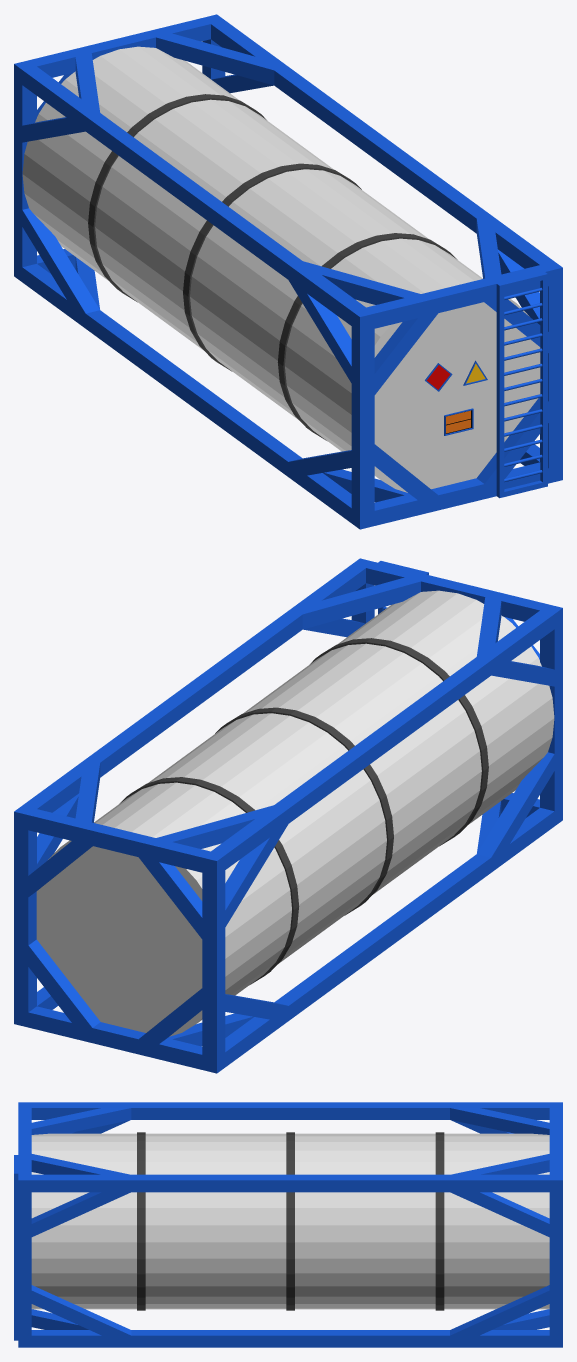
Rendered from citerne_conteneur.fbx.
3 renders of one model, top to bottom at view 1: azimuth 30°, elevation 25°; view 2: azimuth 150°, elevation 25°; view 3: azimuth 270°, elevation 25°, orthographic. The views are drawn at different scales.
Parts seen in each view (by area): view 1: Citerne, citerne_conteneur, ContourCiterne1, ContourCiterne2, ContourCiterne3; view 2: Citerne, citerne_conteneur, ContourCiterne3, ContourCiterne2, ContourCiterne1; view 3: Citerne, citerne_conteneur, ContourCiterne1, ContourCiterne2, ContourCiterne3.
Part boxes in pixels (<box>): Citerne: <box>22,46,540,492</box>; citerne_conteneur: <box>14,14,562,529</box>; ContourCiterne1: <box>88,94,266,302</box>; ContourCiterne2: <box>183,163,361,371</box>; ContourCiterne3: <box>277,233,457,440</box>; Citerne: <box>36,590,554,1036</box>; citerne_conteneur: <box>14,558,562,1073</box>; ContourCiterne3: <box>310,638,488,846</box>; ContourCiterne2: <box>215,707,393,915</box>; ContourCiterne1: <box>119,777,299,984</box>; Citerne: <box>31,1133,549,1309</box>; citerne_conteneur: <box>14,1102,562,1347</box>; ContourCiterne1: <box>435,1132,444,1310</box>; ContourCiterne2: <box>286,1132,294,1310</box>; ContourCiterne3: <box>137,1132,145,1310</box>.
Size of the model in its own units: 2113 by 2100 by 6250.
